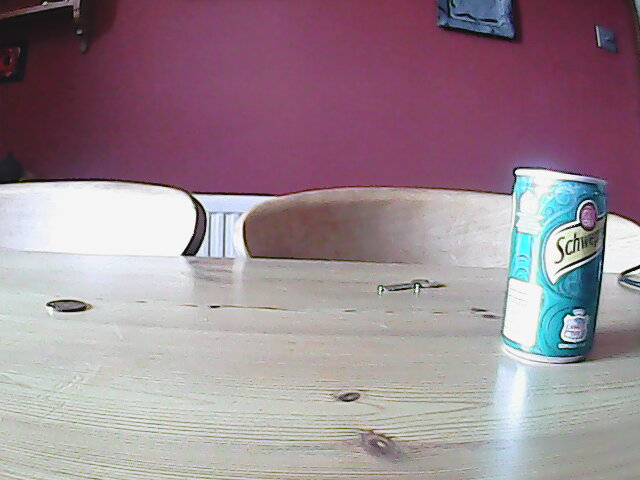Can: (498, 165, 614, 369)
Coin: (41, 297, 90, 317)
Key: (376, 277, 442, 296)
